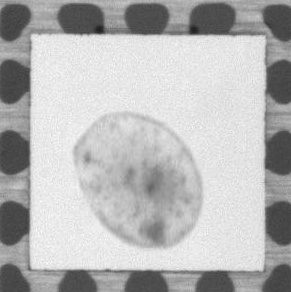DIE_INK: (73, 113, 198, 247)
